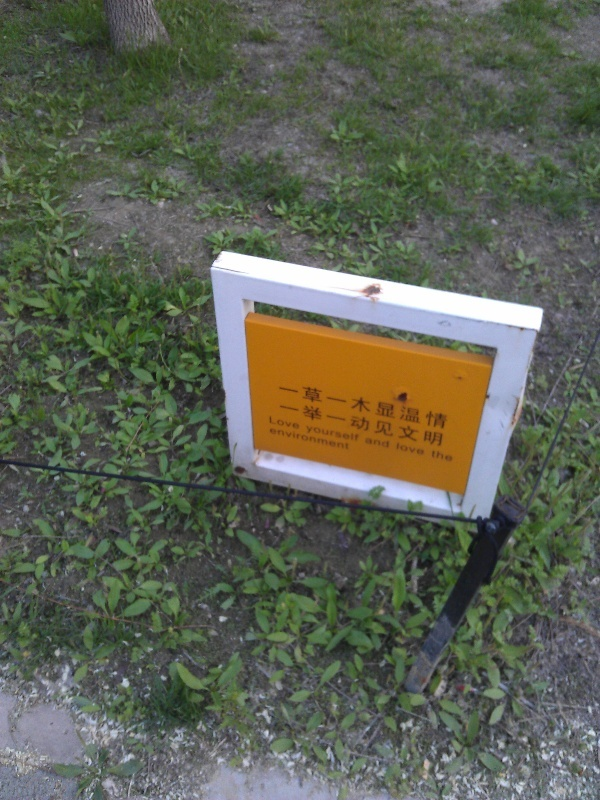text: (289, 378, 304, 432), (305, 378, 320, 432), (321, 378, 336, 432), (337, 378, 352, 432), (353, 378, 368, 432), (369, 378, 384, 432), (385, 378, 400, 432), (401, 378, 416, 432), (417, 378, 432, 432), (433, 378, 448, 432), (289, 399, 304, 449), (305, 399, 320, 449), (321, 399, 336, 449), (337, 399, 352, 449), (353, 399, 368, 449), (369, 399, 384, 449), (385, 399, 400, 449), (401, 399, 416, 449), (417, 399, 432, 449), (275, 378, 288, 432), (433, 399, 447, 449), (279, 399, 288, 449), (273, 425, 288, 451), (289, 425, 304, 451), (305, 425, 320, 451), (321, 425, 336, 451), (337, 425, 352, 451), (321, 424, 336, 444), (337, 424, 352, 444), (307, 424, 320, 444), (273, 416, 288, 432), (401, 442, 416, 457), (369, 436, 384, 450), (433, 449, 448, 463), (289, 416, 302, 432), (353, 424, 360, 444), (417, 442, 426, 457), (449, 378, 451, 432), (385, 436, 391, 450), (449, 449, 455, 463), (269, 425, 272, 451), (269, 416, 272, 432), (397, 442, 400, 457), (366, 436, 368, 450)
